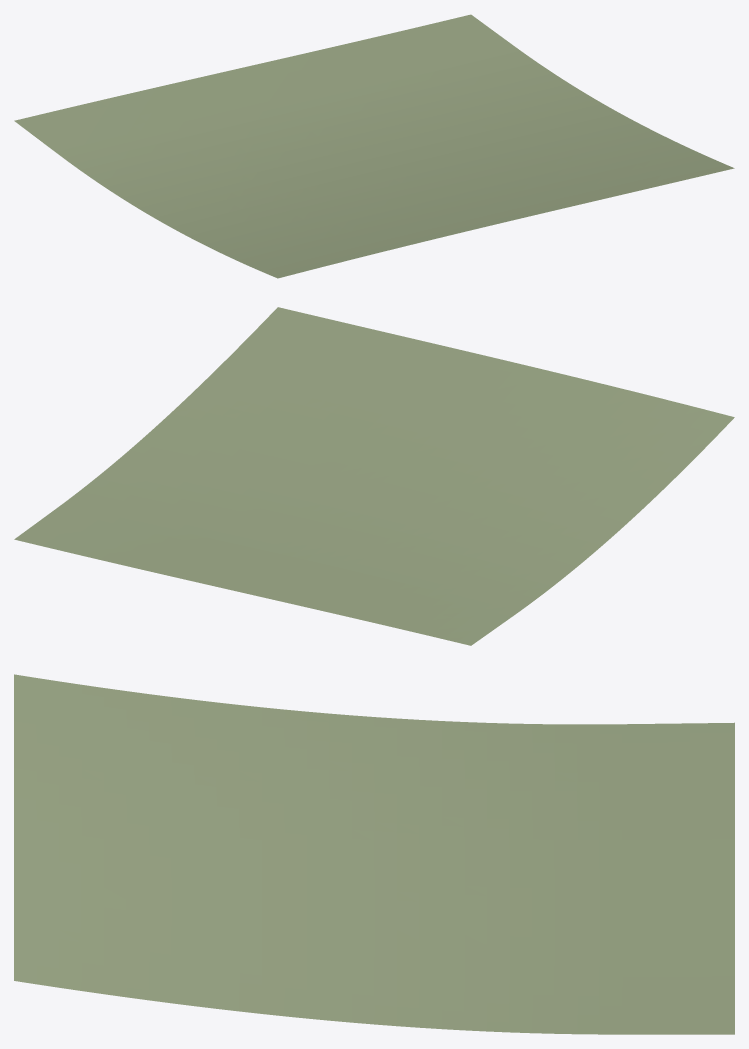
File: expanse-29-3.glb
3 views of the same model, one above another, from view 1: azimuth 30°, elevation 25°; view 2: azimuth 150°, elevation 25°; view 3: azimuth 270°, elevation 25° (orthographic). The views are drawn at different scales.
Visible parts, largest first — view 1: expanse-29-3; view 2: expanse-29-3; view 3: expanse-29-3.
Part boxes in pixels (x1,y1,x2,y2): expanse-29-3: [14, 14, 734, 278]; expanse-29-3: [14, 307, 734, 645]; expanse-29-3: [14, 674, 734, 1034].
Bounding box in the file's own units: 256 × 22.36 × 256.
